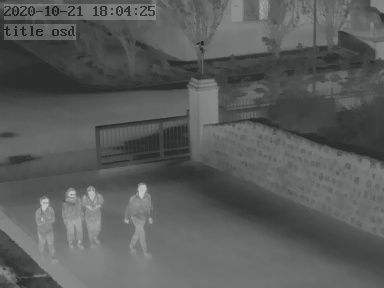person: (125, 180, 156, 254), (62, 184, 84, 250), (82, 182, 103, 249), (35, 192, 56, 256)
